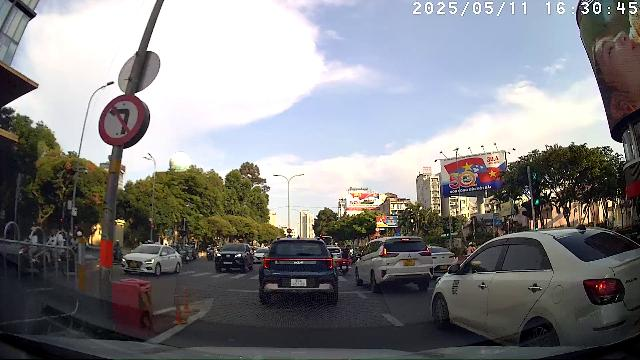123a-cam-re-trai: (97, 93, 143, 145)
